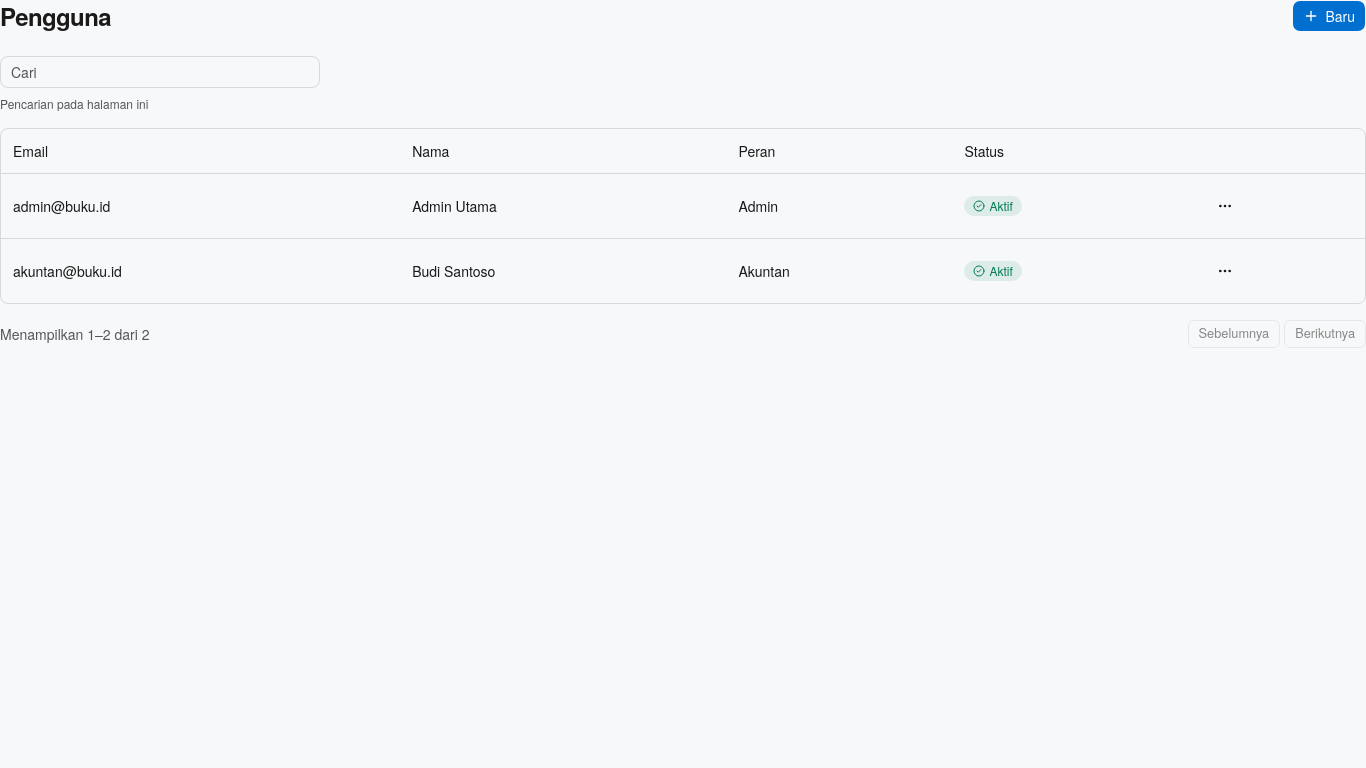
Test case: create flow reveals the temp password
The width and height of the screenshot is (1366, 768).
Click the button "Baru".
click(1329, 16)  # box 1292,0 -> 1365,32
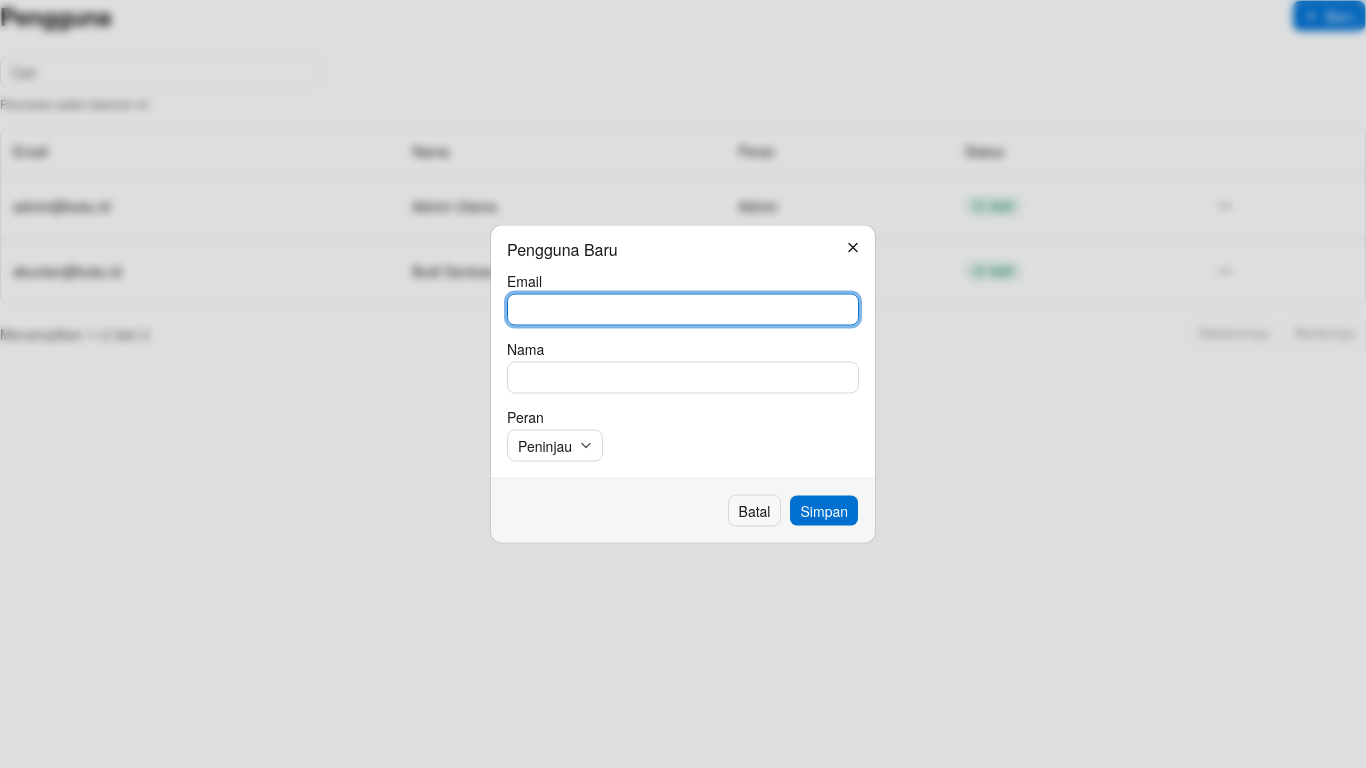
Type "x@y.zz" into the field labelled "Email".
click(683, 310); type("x@y.zz")  # box 507,294 -> 859,326
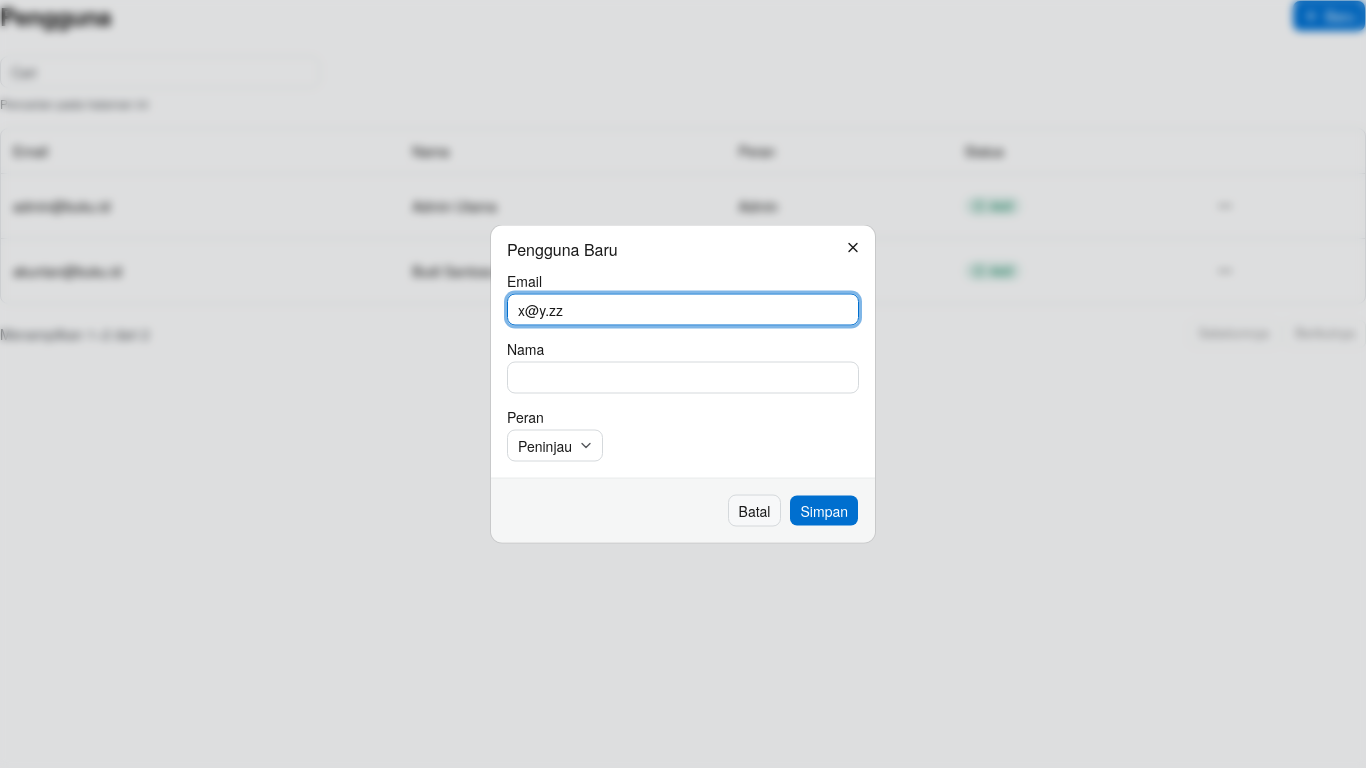
Type "X User" into the field labelled "Nama".
click(683, 378); type("X User")  # box 507,362 -> 859,394
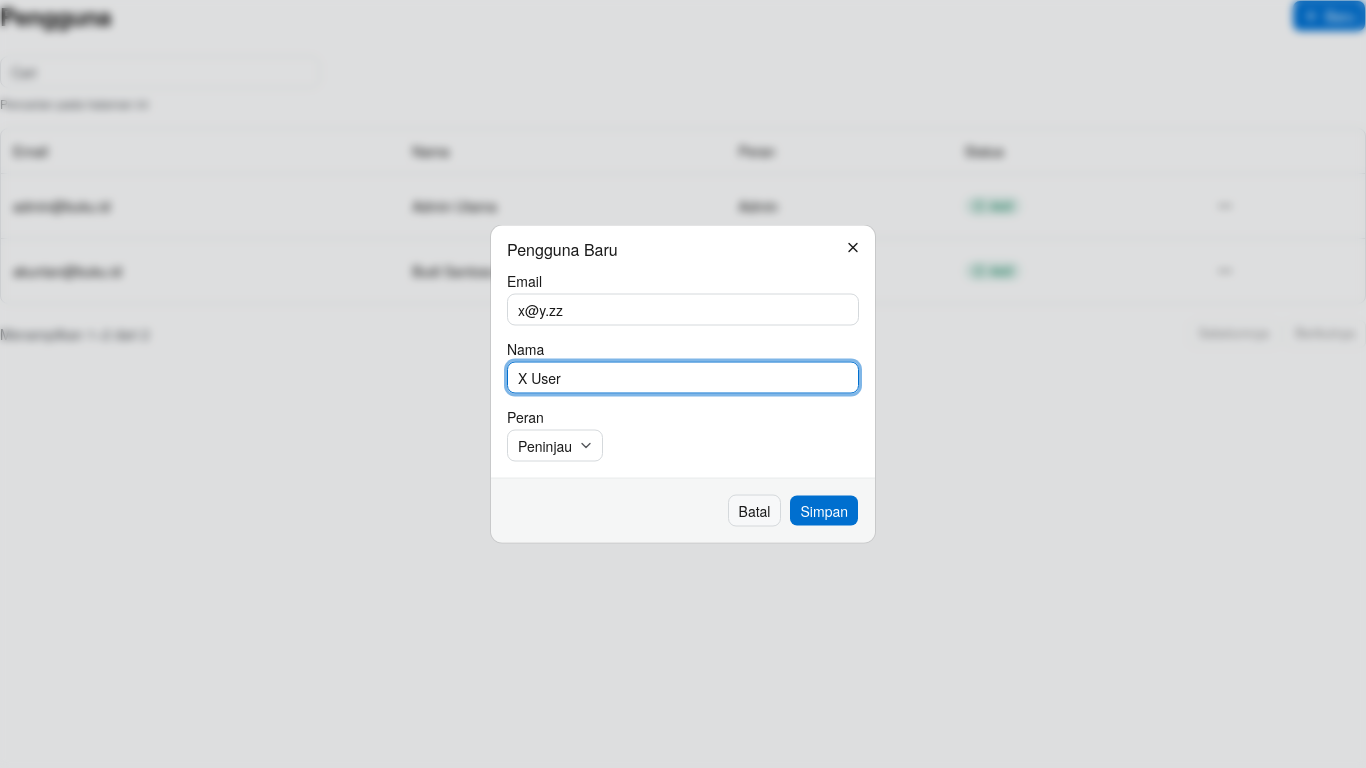
Click the button "Simpan".
click(824, 510)  # box 790,494 -> 859,526
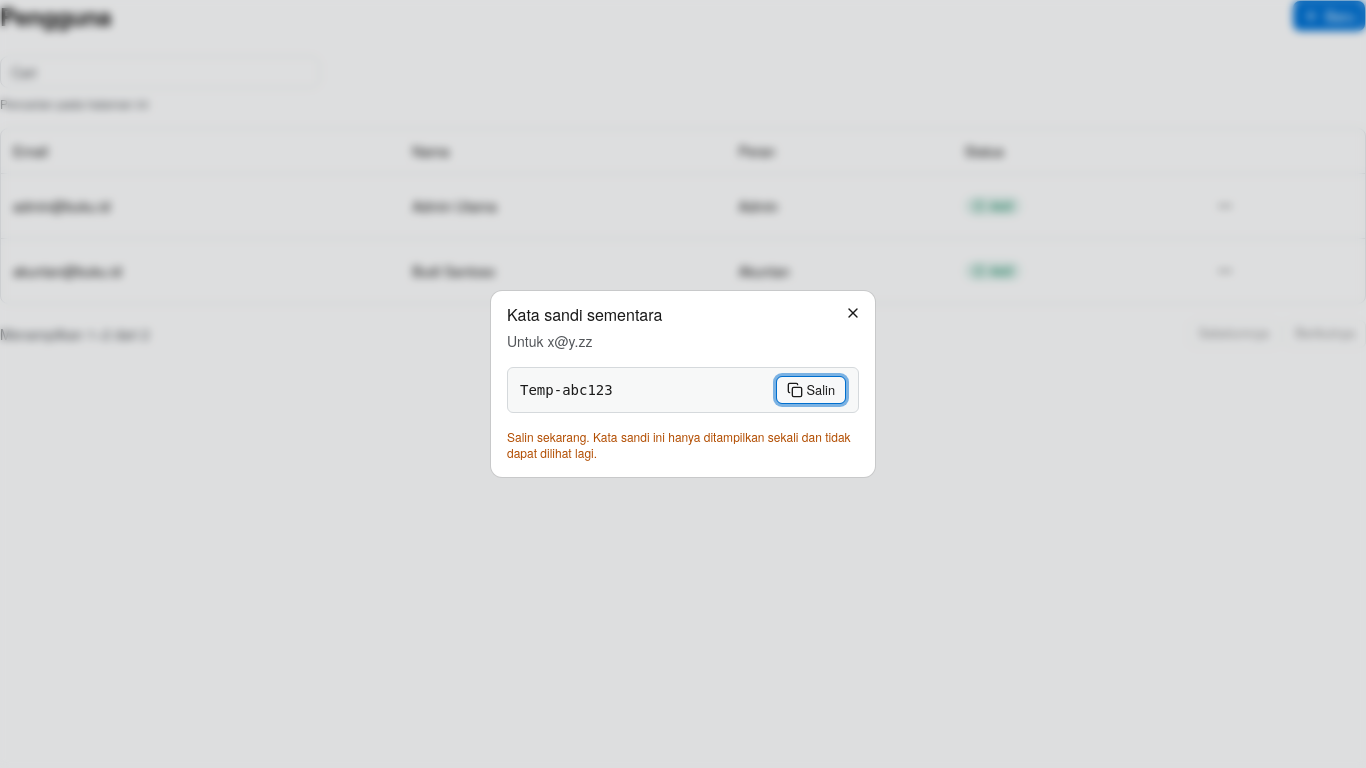
Now the text "Temp-abc123" is shown, box 520,382 -> 613,398
